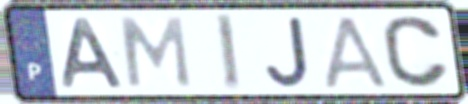A: (321, 13, 391, 90), (61, 16, 128, 90)
C: (379, 13, 452, 90)
I: (212, 11, 244, 94)
J: (263, 15, 313, 89)
M: (117, 15, 194, 91)
